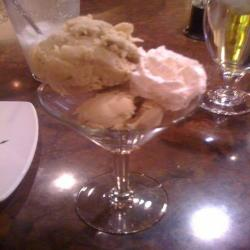icecream: (28, 14, 204, 156)
